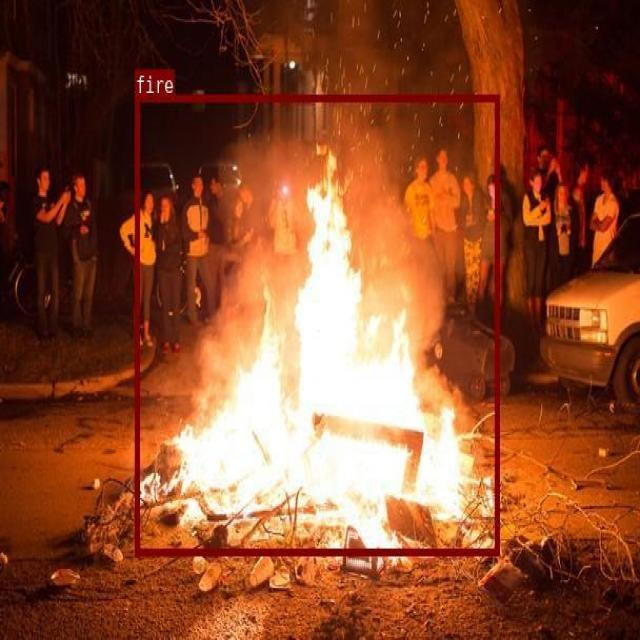fire: (134, 93, 498, 554)
